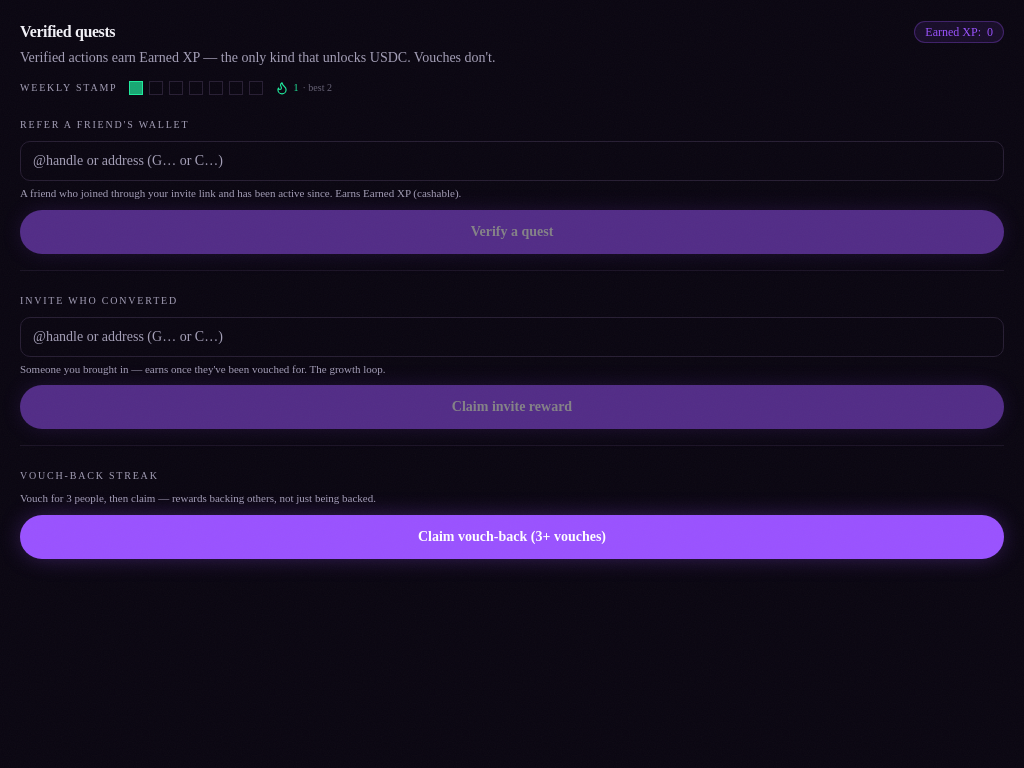
it: Quests › keeps a successful quest successful when the streak refresh rejects
Step 1. Click the button "Claim vouch-back (3+ vouches)" → (512, 536), box [20, 514, 1004, 558]
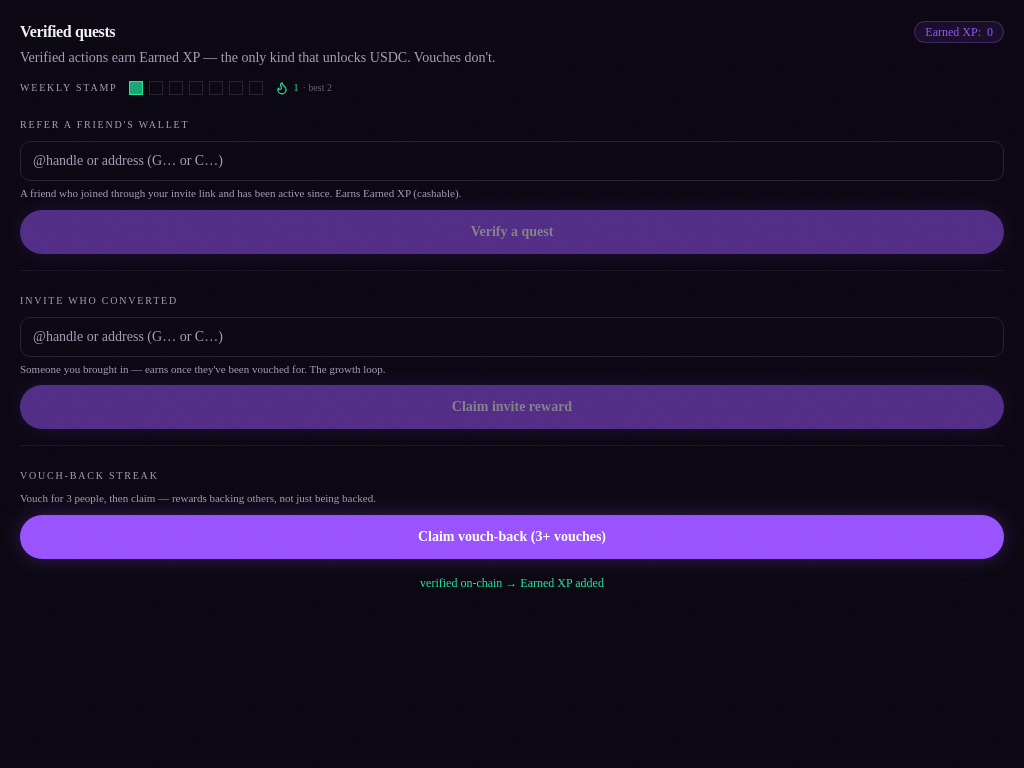
Expected: the text "verified on-chain → Earned XP added" is shown, [420, 574, 604, 590]
